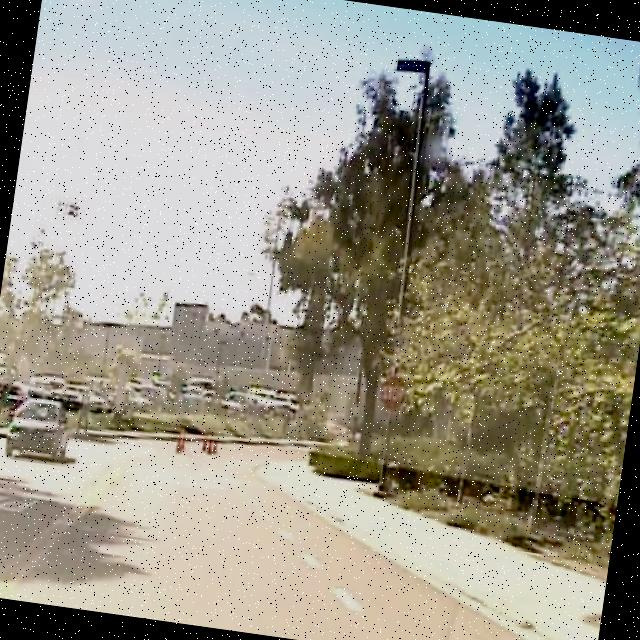Stop: (375, 369, 412, 416)
